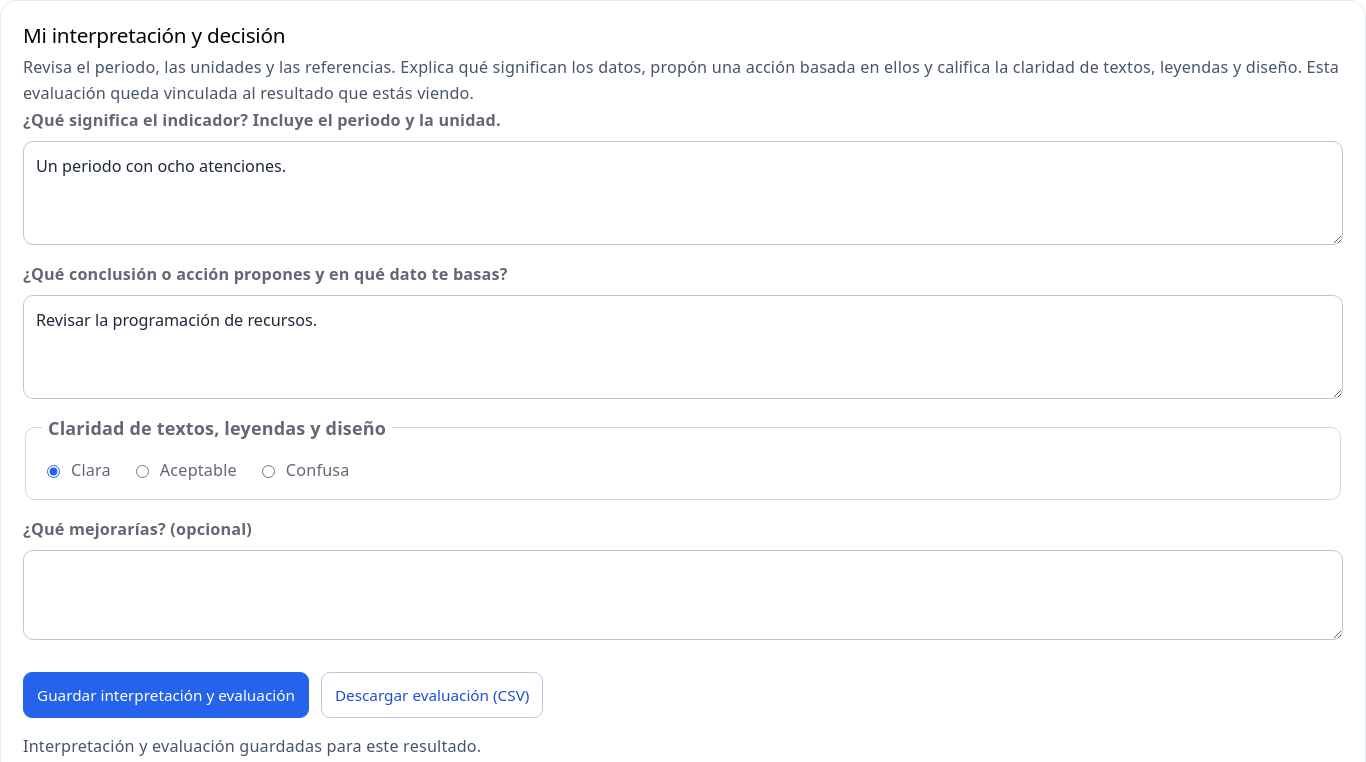
Test: reports that a changed result requires refreshing before saving a review
The image size is (1366, 762).
Expected: the text box showing "Un periodo con ocho atenciones." is shown, [23,141,1343,245]
Click the button "Guardar interpretación y evaluación".
click(166, 695)  # box [23,672,309,718]
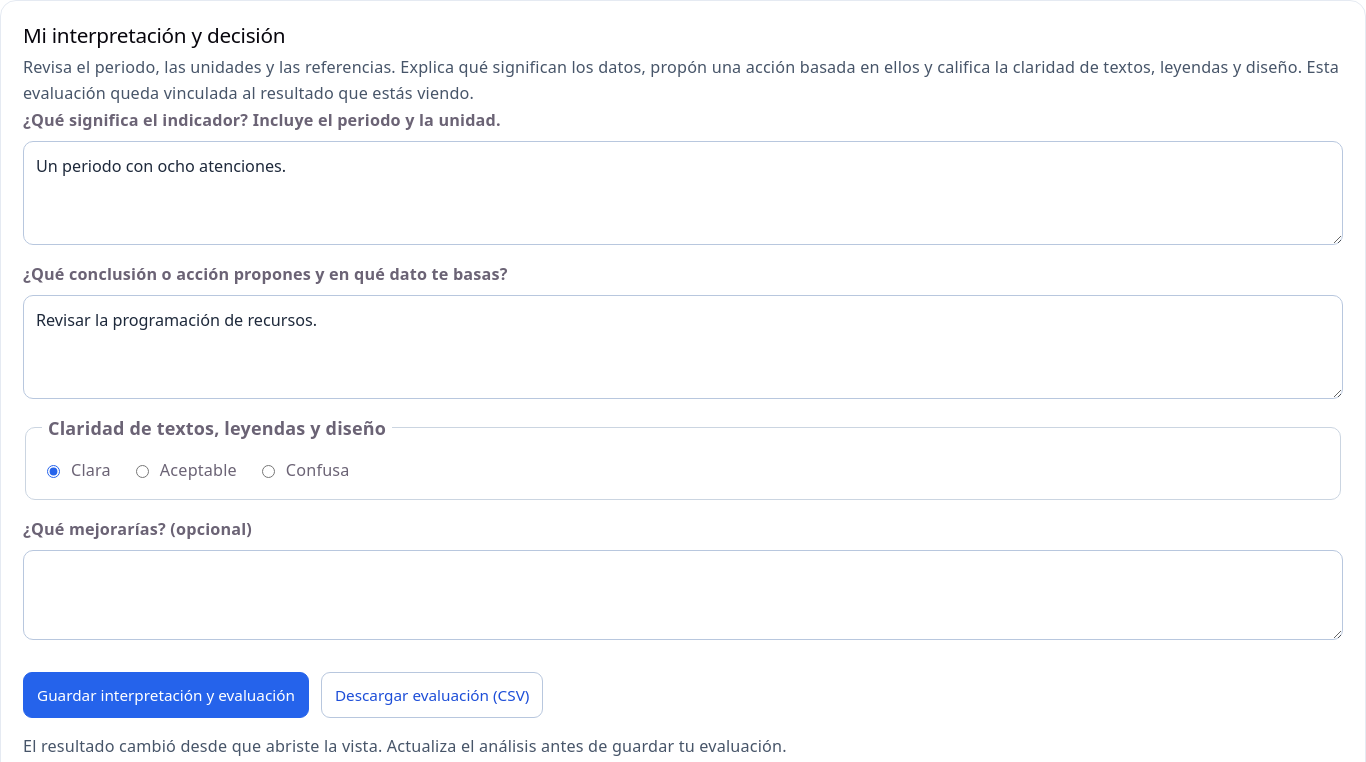
Result: the 1st message shows "El resultado cambió" at [23,735,787,757]
